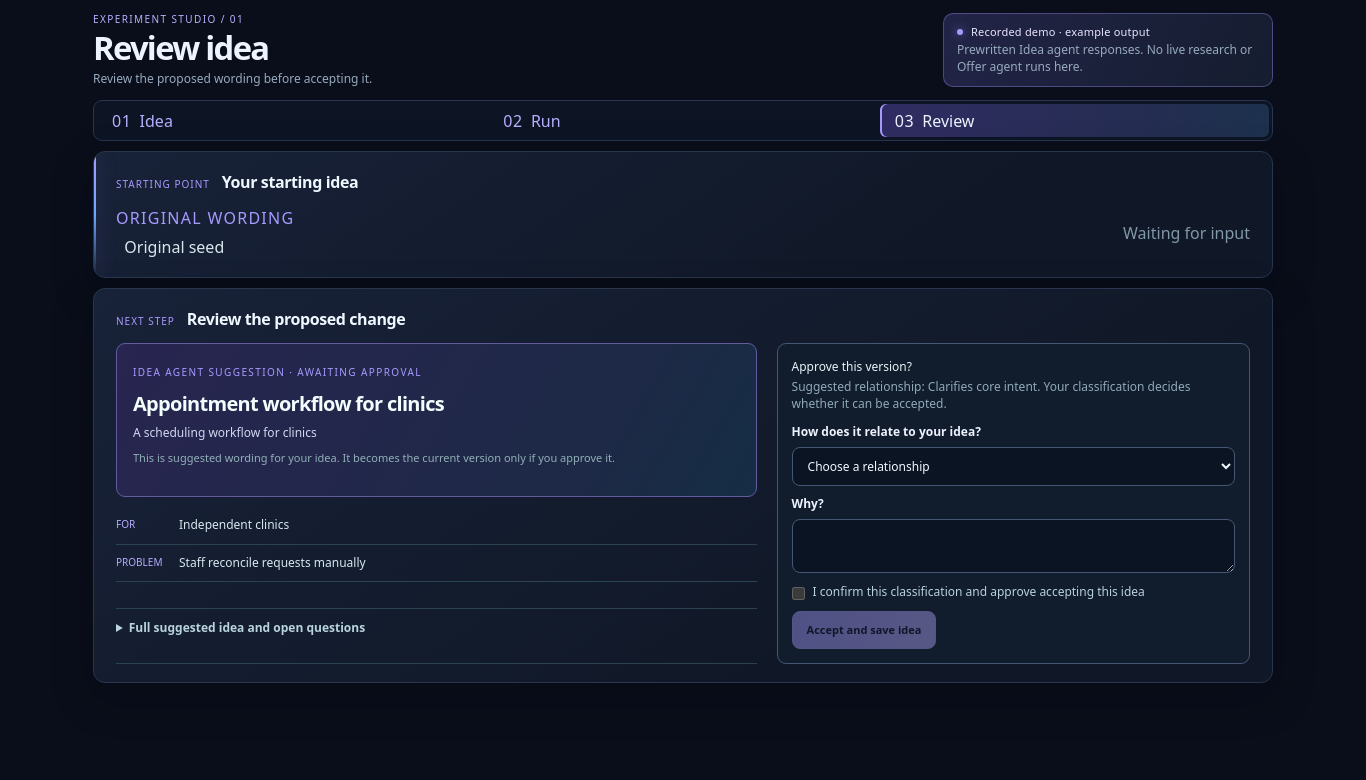
Test: experiment creation checkpoint › blocks MATERIAL_PIVOT acceptance in the normal path
Step 1. Select "Material pivot" in the dropdown named "intent relationship" → [1013, 466], box 792,447 -> 1235,486
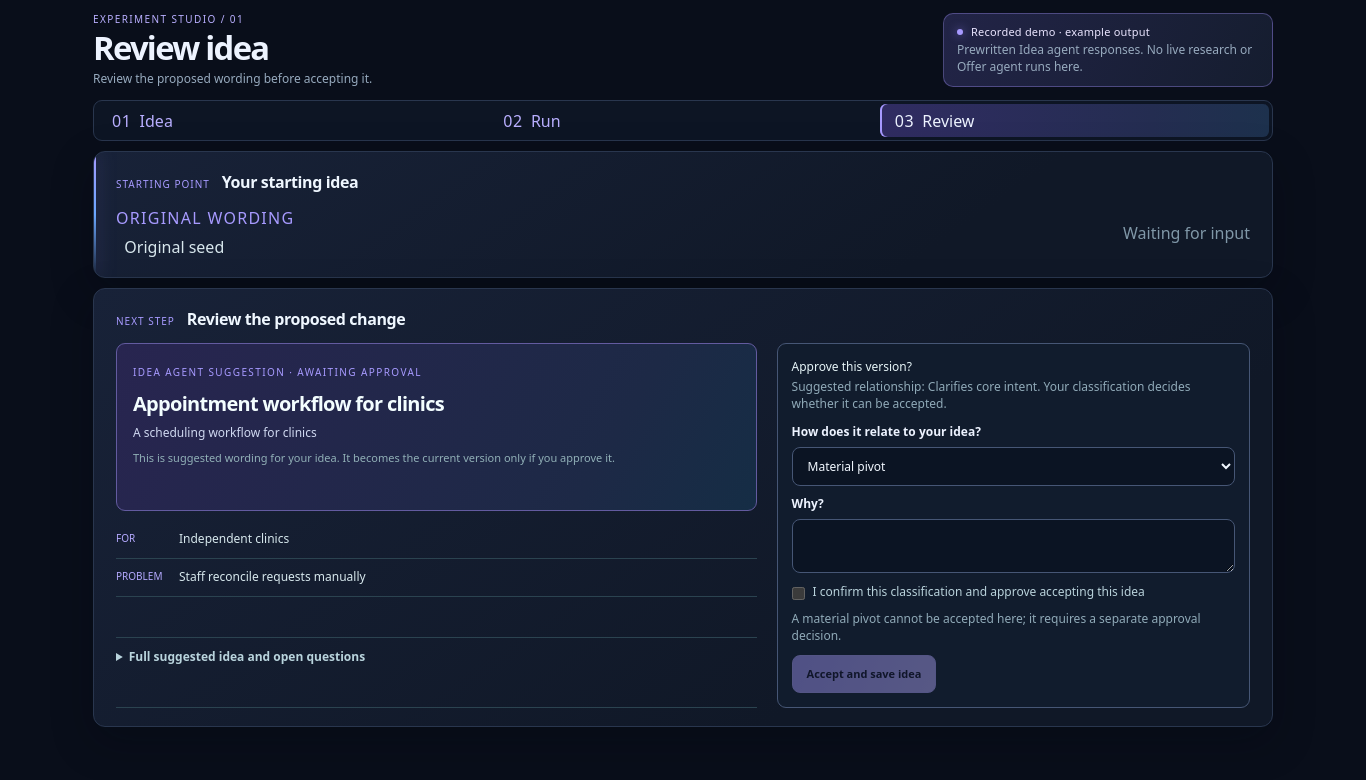
Expected: the button "Accept and save idea" is disabled, 792,655 -> 936,693
Now the text "cannot be accepted here" is shown, box 792,610 -> 1200,644
